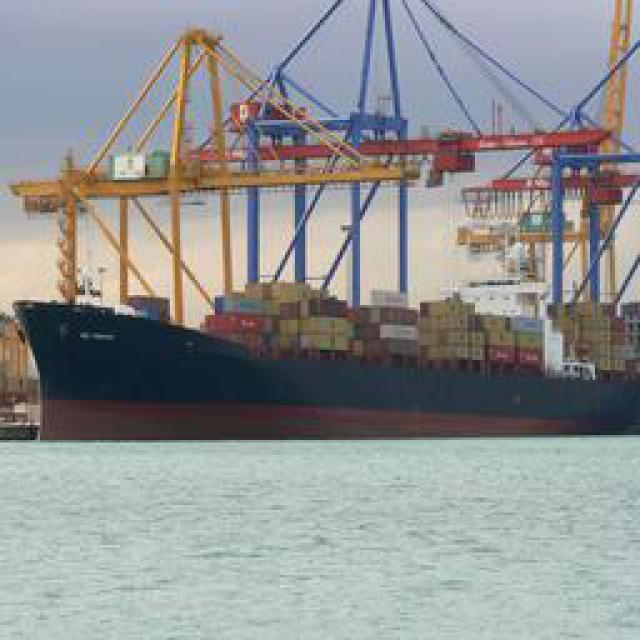Ship: (2, 266, 639, 441)
